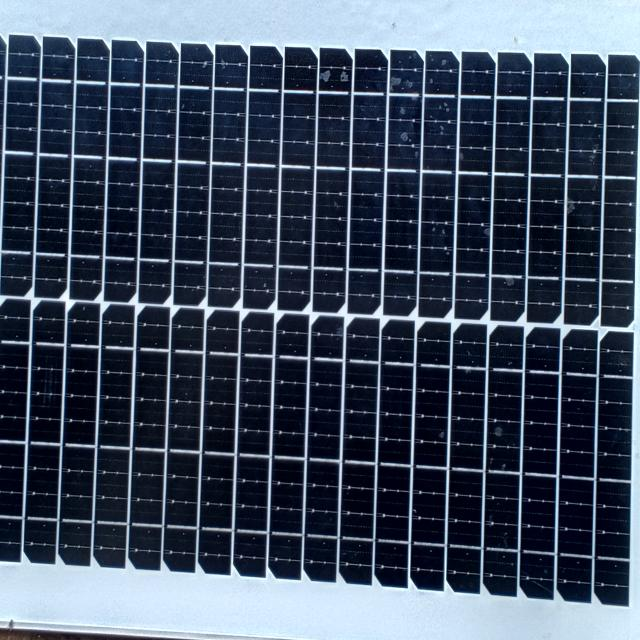Clean: (5, 6, 638, 620)
